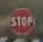stop: (7, 6, 35, 36)
